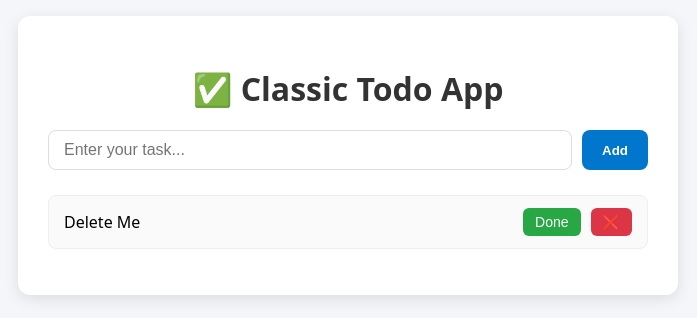
Test: Todo App Integration Tests › deletes a todo
Expected: the text "Delete Me" is shown, [64,211,140,233]
# Click delete
Click the button "❌" at (611, 222), box [590,208,632,236]
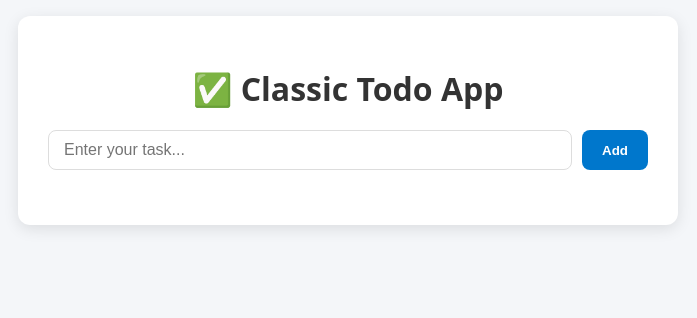
Result: the text "Delete Me" is gone
